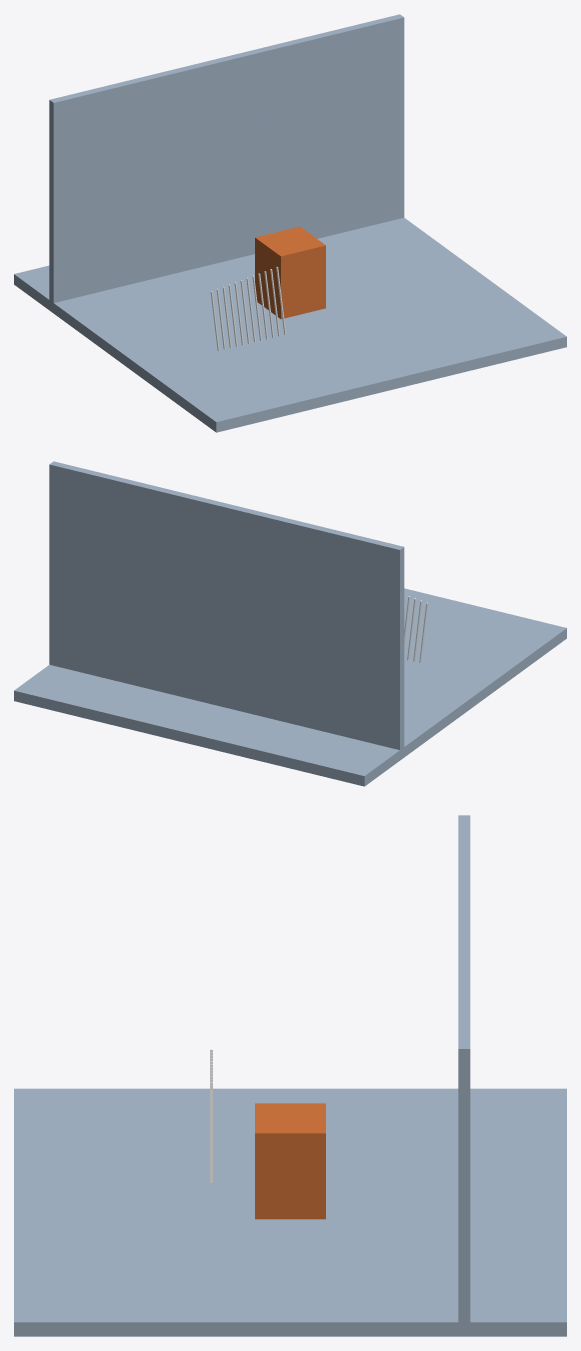
File: shadow-blockers.gltf
3 views of the same model, one above another, from view 1: azimuth 30°, elevation 25°; view 2: azimuth 150°, elevation 25°; view 3: azimuth 270°, elevation 25° (orthographic). The views are drawn at different scales.
Parts seen in each view (by area): view 1: Back wall, Floor, Moving cube; view 2: Back wall, Floor; view 3: Floor, Moving cube, Back wall.
Part boxes in pixels (x1,y1,x2,y2): Back wall: (49, 14, 404, 311); Floor: (14, 217, 566, 432); Moving cube: (255, 226, 325, 319); Back wall: (49, 461, 404, 759); Floor: (14, 588, 566, 786); Floor: (14, 1088, 566, 1336); Moving cube: (255, 1103, 325, 1219); Back wall: (458, 815, 470, 1335).
Size of the model in its own units: 7 by 4.44 by 7.
